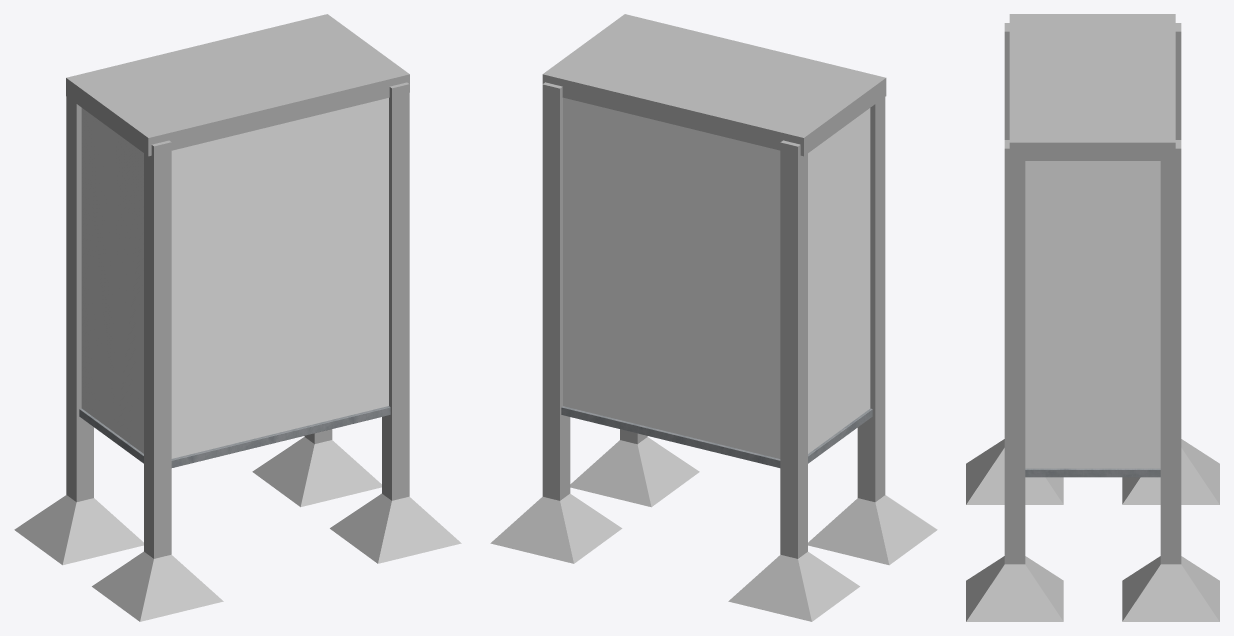
The model's file is Diamond_Box.fbx.
3 views of the same model, side by side, from view 1: azimuth 30°, elevation 25°; view 2: azimuth 150°, elevation 25°; view 3: azimuth 270°, elevation 25° (orthographic).
Parts seen in each view (by area): view 1: Diamond_Box; view 2: Diamond_Box; view 3: Diamond_Box.
Boxes of the visible parts, x1=… form: Diamond_Box: x1=14, y1=14, x2=461, y2=621; Diamond_Box: x1=490, y1=14, x2=937, y2=621; Diamond_Box: x1=966, y1=14, x2=1219, y2=621.
Size of the model in its own units: 175 by 239 by 119.
4 materials, 2 textured.
